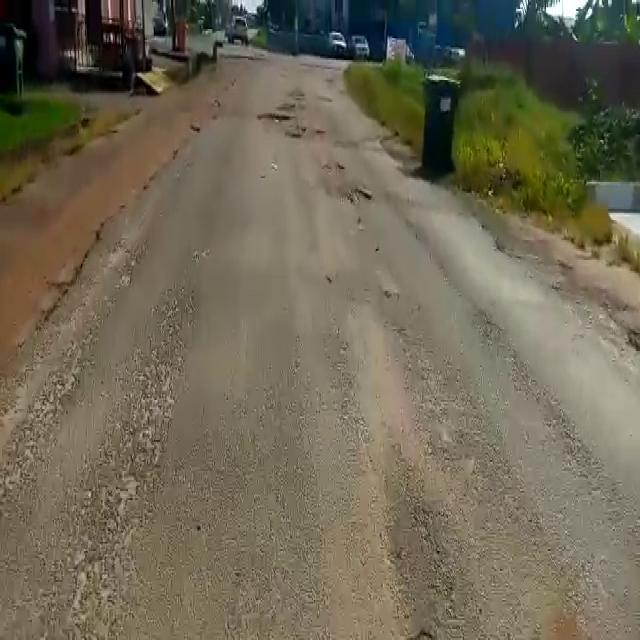Pothole: (346, 184, 372, 207), (254, 111, 296, 124)
